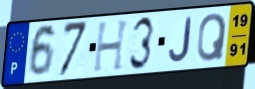3: (127, 15, 160, 72)
6: (26, 23, 59, 81)
7: (57, 20, 90, 80)
H: (92, 18, 132, 74)
J: (167, 16, 193, 64)
Q: (195, 12, 228, 64)
